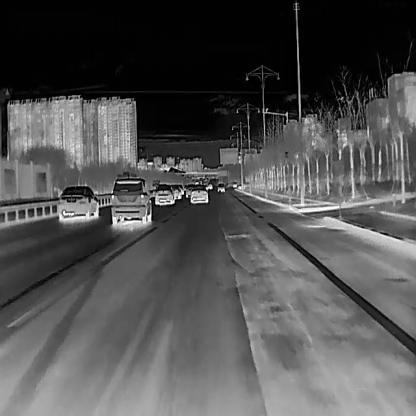car: (109, 175, 150, 224), (57, 185, 98, 219), (154, 183, 173, 204), (189, 184, 207, 202), (217, 182, 225, 192)
